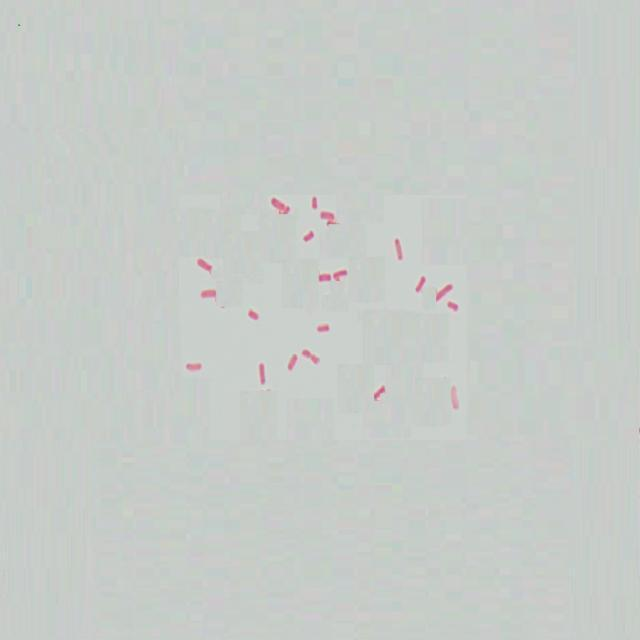E-coli: (193, 248, 216, 275), (253, 357, 271, 391), (390, 236, 408, 267), (446, 380, 462, 414), (301, 341, 320, 367), (411, 270, 429, 296), (269, 193, 290, 215), (435, 279, 454, 301), (198, 283, 217, 305), (184, 355, 201, 378), (246, 304, 264, 323), (286, 351, 299, 377), (371, 382, 388, 401), (316, 269, 332, 288), (447, 300, 462, 316), (321, 209, 336, 225), (334, 265, 348, 282), (309, 192, 320, 213), (302, 229, 317, 244), (316, 321, 331, 334)
